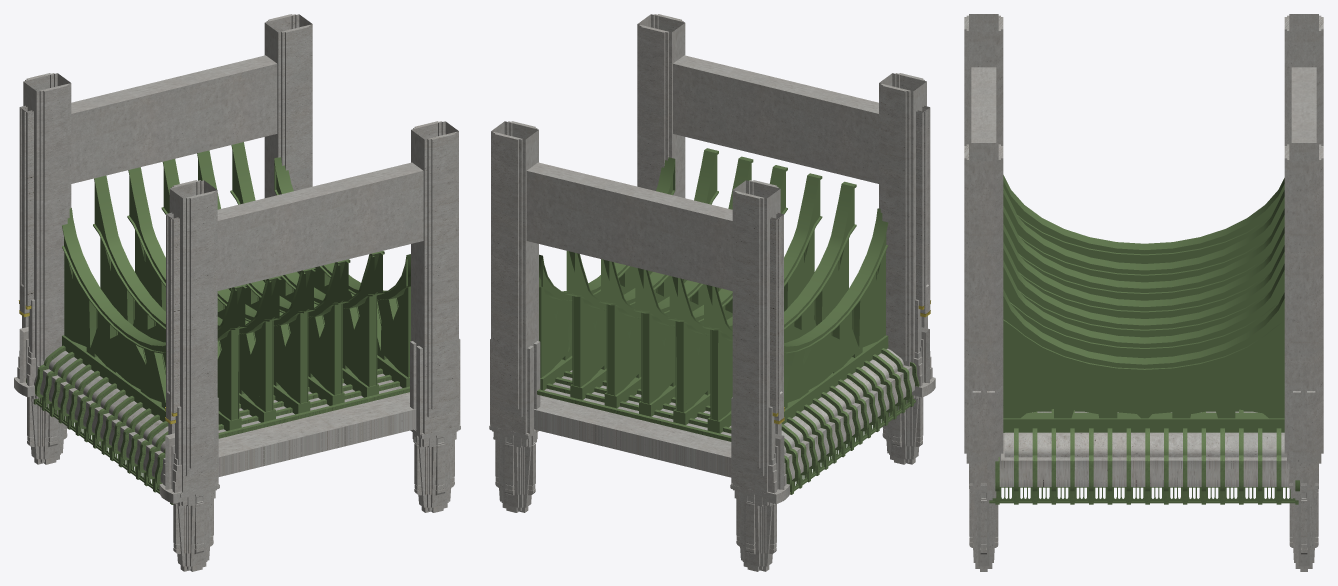
Rendered from eggBorn.fbx.
3 views of the same model, side by side, from view 1: azimuth 30°, elevation 25°; view 2: azimuth 150°, elevation 25°; view 3: azimuth 270°, elevation 25° (orthographic). The views are drawn at different scales.
Visible parts, largest first — view 1: bridge_03; view 2: bridge_03; view 3: bridge_03.
Boxes of the visible parts, bbox=[...] form: bridge_03: bbox=[14, 14, 460, 571]; bridge_03: bbox=[489, 14, 935, 571]; bridge_03: bbox=[964, 14, 1323, 571].
Bounding box in the file's own units: 2189 × 2727 × 2142.
Materials: 3 (3 with a texture image).
